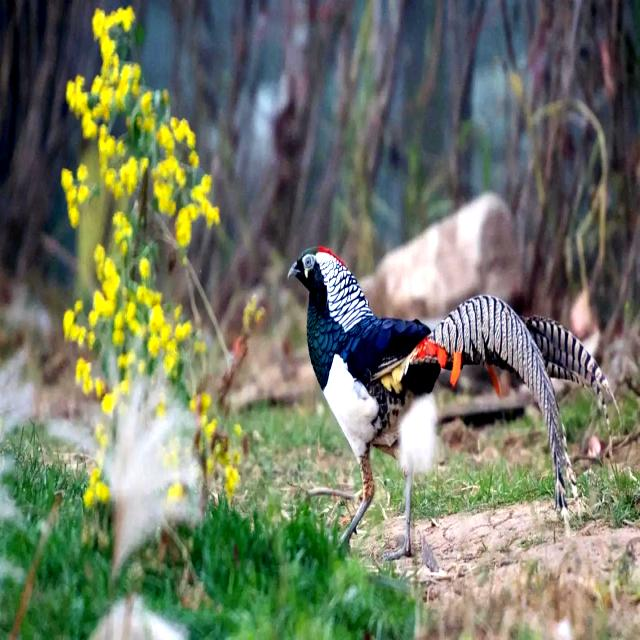Chrysolophus amherstiae: (427, 295, 609, 510)
